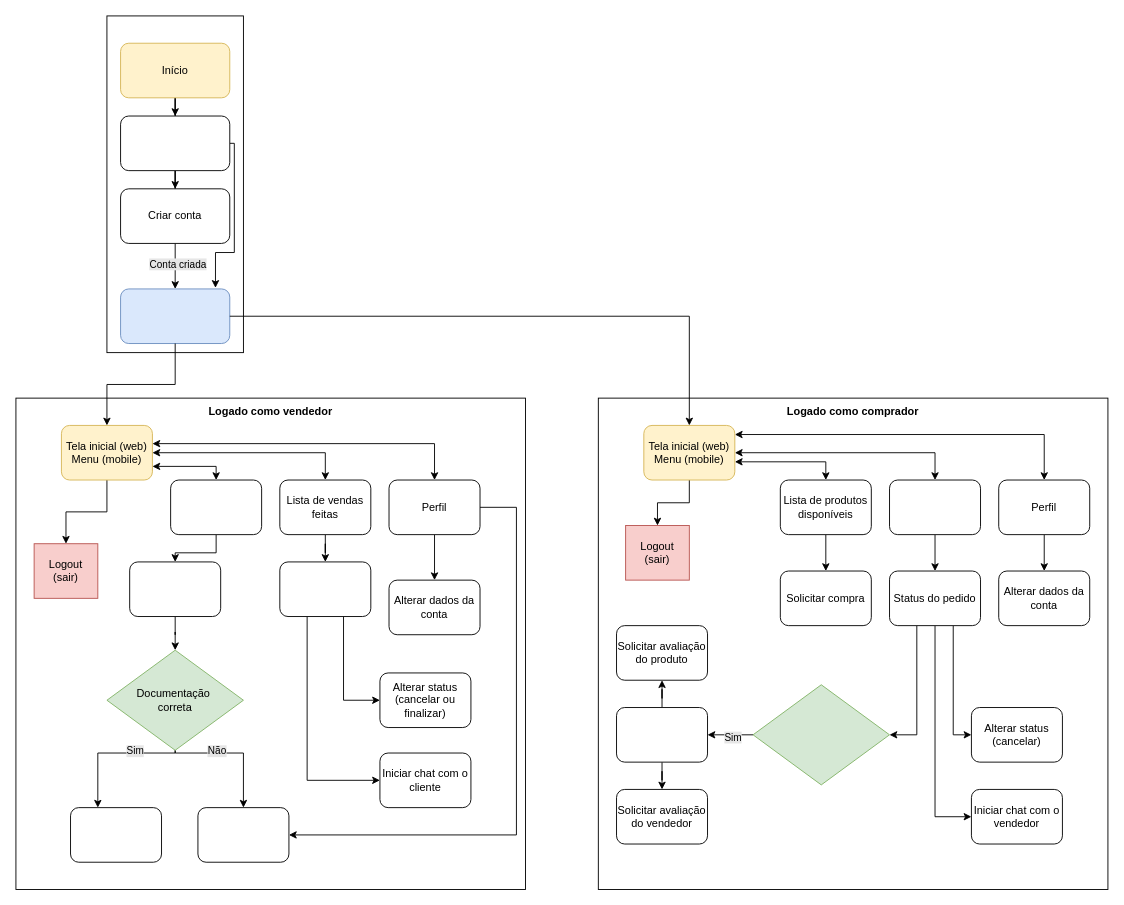
The diagram is 1124 pixels wide and 905 high, and some of its shapes have lost their labels. Each missing label, with the centre of its shape:
Adicionar novo produto: (175,589)
Criar novo produto: (116,834)
Entrar: (175,316)
Enviar documentação: (243,834)
Lista de pedidos feitos: (935,507)
Lista de produtos cadastrados: (216,507)
O pedido foi finalizado: (821,734)
Solicitar avaliação: (662,734)
Status da venda: (325,589)
Tela de login: (175,143)
